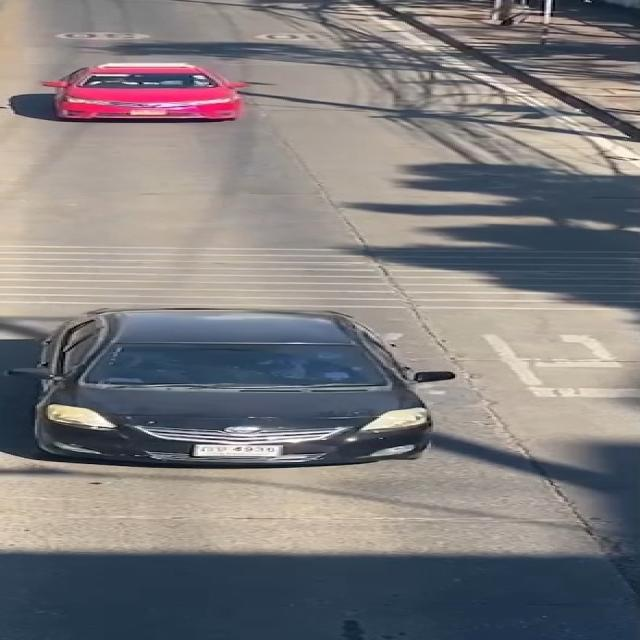car: (0, 295, 491, 481), (7, 54, 296, 132)
